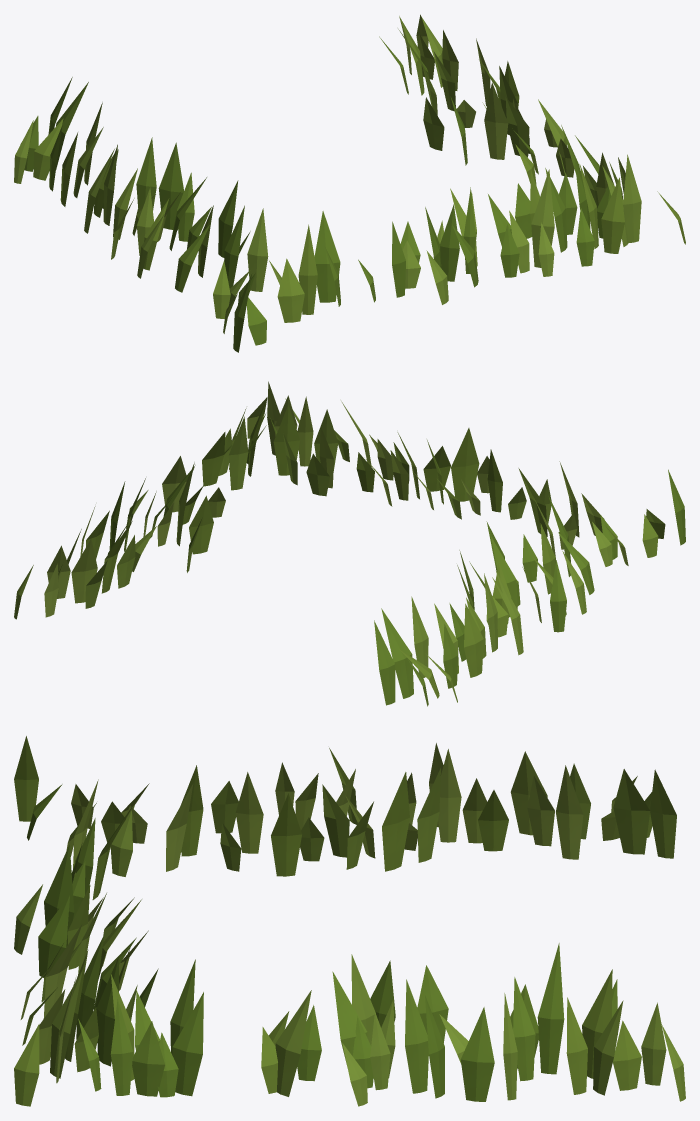
The model's file is tile_grass_end_02.glb.
3 views of the same model, one above another, from view 1: azimuth 30°, elevation 25°; view 2: azimuth 150°, elevation 25°; view 3: azimuth 270°, elevation 25° (orthographic). The views are drawn at different scales.
Visible parts, largest first — view 1: tile_grass_end_02; view 2: tile_grass_end_02; view 3: tile_grass_end_02.
Boxes of the visible parts, bbox=[...] form: tile_grass_end_02: bbox=[14, 14, 685, 352]; tile_grass_end_02: bbox=[14, 381, 685, 706]; tile_grass_end_02: bbox=[14, 736, 685, 1106].
Bounding box in the file's own units: 1 × 0.1806 × 0.9934.
Materials: 1 (1 with a texture image).
